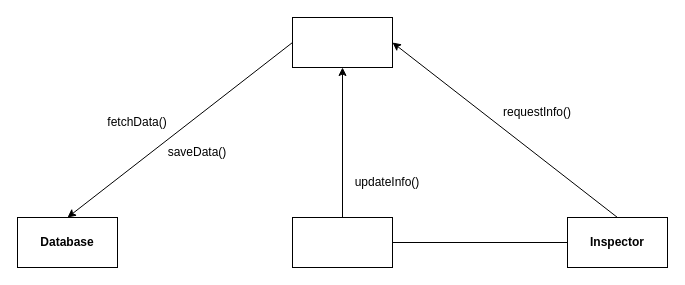
Image size: 685x285. Some labels were removed from this diagram. Each missing label, with the centre of its shape:
"Manager" goes at point 342,242.
"User Interface" goes at point 342,42.
